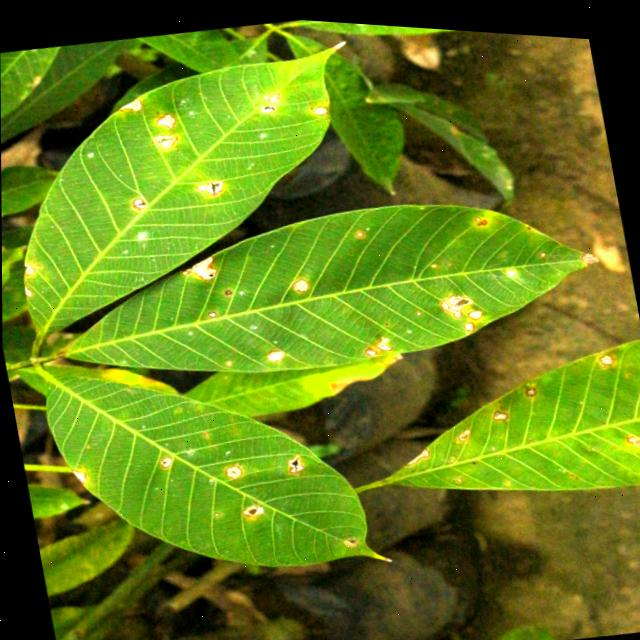Colletotrichum: (288, 270, 311, 288), (223, 460, 243, 477), (489, 400, 509, 415), (265, 343, 284, 357), (311, 98, 329, 112), (131, 194, 147, 208), (598, 343, 614, 357), (466, 300, 483, 313), (158, 452, 172, 466), (524, 378, 537, 390), (463, 313, 476, 325), (206, 306, 217, 315), (223, 284, 232, 292), (538, 242, 546, 250), (355, 225, 364, 231), (212, 507, 219, 513), (455, 469, 462, 475), (202, 429, 208, 432)
Leaf-Blight: (177, 249, 218, 281), (403, 438, 429, 459), (330, 34, 347, 46)
